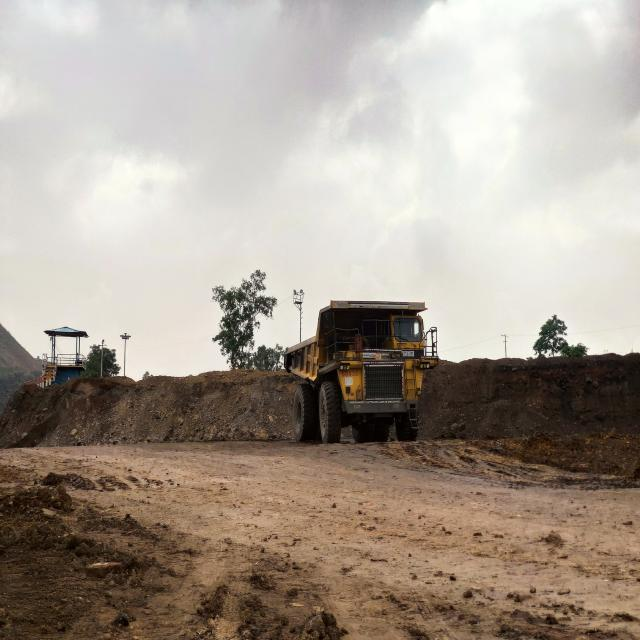dump_truck: (281, 288, 444, 450)
